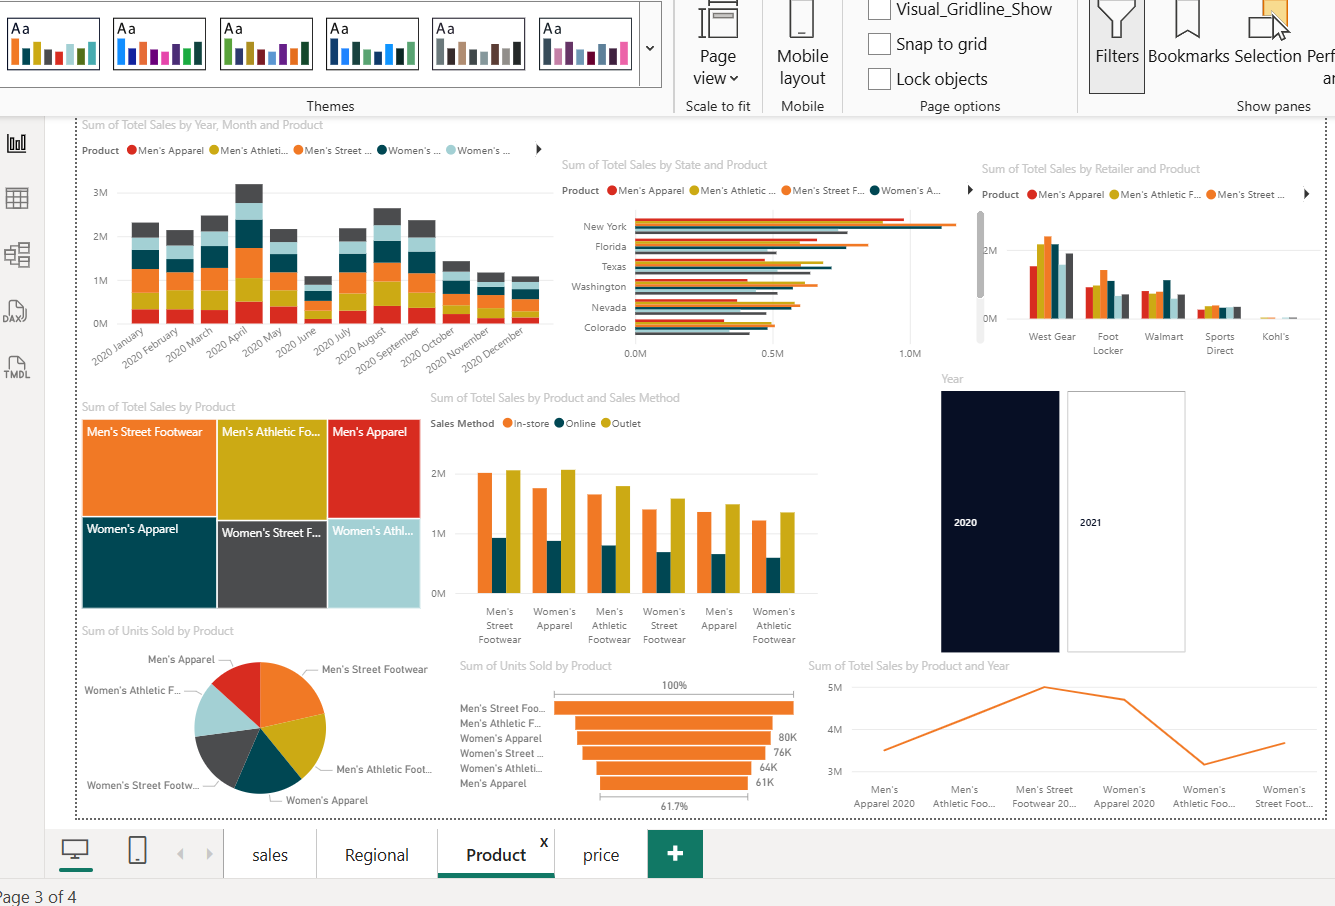

The dashboard page shown, as its layout file describes it:
{"tool":"powerbi","page":{"name":"Product","canvas":[1280,720],"ordinal":2},"visuals":[{"type":"columnChart","fields":{"Category":["Data Sales Adidas.Invoice Date.Variation.Date Hierarchy.Year","Data Sales Adidas.Invoice Date.Variation.Date Hierarchy.Month"],"Y":["Sum(Data Sales Adidas.Totel Sales)"],"Series":["Data Sales Adidas.Product"]},"box":[0,0,493.3,280],"z":0},{"type":"treemap","fields":{"Group":["Data Sales Adidas.Product"],"Values":["Sum(Data Sales Adidas.Totel Sales)"]},"box":[0,290,357.1,220],"z":1000},{"type":"clusteredColumnChart","fields":{"Category":["Data Sales Adidas.Retailer"],"Y":["Sum(Data Sales Adidas.Totel Sales)"],"Series":["Data Sales Adidas.Product"]},"box":[922.9,45.7,357.1,210],"z":2000},{"type":"clusteredBarChart","fields":{"Y":["Sum(Data Sales Adidas.Totel Sales)"],"Category":["Data Sales Adidas.State"],"Series":["Data Sales Adidas.Product"]},"box":[492.9,41.4,442.9,220],"z":3000},{"type":"clusteredColumnChart","fields":{"Category":["Data Sales Adidas.Product"],"Y":["Sum(Data Sales Adidas.Totel Sales)"],"Series":["Data Sales Adidas.Sales Method"]},"box":[357.1,280,407.1,271.4],"z":4000},{"type":"pieChart","fields":{"Y":["Sum(Data Sales Adidas.Units Sold)"],"Category":["Data Sales Adidas.Product"]},"box":[0,520,375.7,200],"z":5000},{"type":"advancedSlicerVisual","fields":{"Values":["Data Sales Adidas.Invoice Date.Variation.Date Hierarchy.Year"]},"box":[764.3,261.4,260,294.3],"z":6000},{"type":"funnel","fields":{"Category":["Data Sales Adidas.Product"],"Y":["Sum(Data Sales Adidas.Units Sold)"]},"box":[387.1,555.7,357.1,164.3],"z":7000},{"type":"lineChart","fields":{"Y":["Sum(Data Sales Adidas.Totel Sales)"],"Category":["Data Sales Adidas.Product","Data Sales Adidas.Invoice Date.Variation.Date Hierarchy.Year"]},"box":[744.3,555.7,535.7,164.3],"z":8000}]}

Visuals, with their boxes on the page's 1280x720 design canvas (x1, y1, x2, y2). These are canvas units, not pixel positions in the 1335x906 screenshot, which may show the page scaled, cropped or inside an application window:
columnChart - Data Sales Adidas.Invoice Date.Variation.Date Hierarchy.Year x Data Sales Adidas.Invoice Date.Variation.Date Hierarchy.Month: x1=0, y1=0, x2=493, y2=280
treemap - Data Sales Adidas.Product x Sum(Data Sales Adidas.Totel Sales): x1=0, y1=290, x2=357, y2=510
clusteredColumnChart - Data Sales Adidas.Retailer x Sum(Data Sales Adidas.Totel Sales): x1=923, y1=46, x2=1280, y2=256
clusteredBarChart - Sum(Data Sales Adidas.Totel Sales) x Data Sales Adidas.State: x1=493, y1=41, x2=936, y2=261
clusteredColumnChart - Data Sales Adidas.Product x Sum(Data Sales Adidas.Totel Sales): x1=357, y1=280, x2=764, y2=551
pieChart - Sum(Data Sales Adidas.Units Sold) x Data Sales Adidas.Product: x1=0, y1=520, x2=376, y2=720
advancedSlicerVisual - Data Sales Adidas.Invoice Date.Variation.Date Hierarchy.Year: x1=764, y1=261, x2=1024, y2=556
funnel - Data Sales Adidas.Product x Sum(Data Sales Adidas.Units Sold): x1=387, y1=556, x2=744, y2=720
lineChart - Sum(Data Sales Adidas.Totel Sales) x Data Sales Adidas.Product: x1=744, y1=556, x2=1280, y2=720
